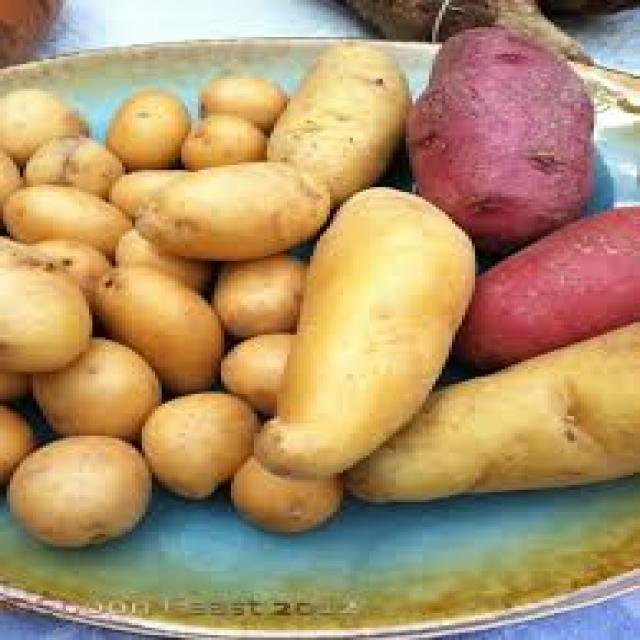Potato: (252, 180, 484, 492), (250, 33, 434, 187), (115, 155, 357, 268), (78, 256, 251, 411), (9, 434, 166, 561), (22, 331, 162, 431), (3, 171, 144, 267), (210, 437, 346, 534), (0, 248, 96, 382), (140, 394, 262, 495), (98, 87, 198, 172), (0, 84, 97, 163), (196, 71, 298, 141), (170, 110, 272, 174)
